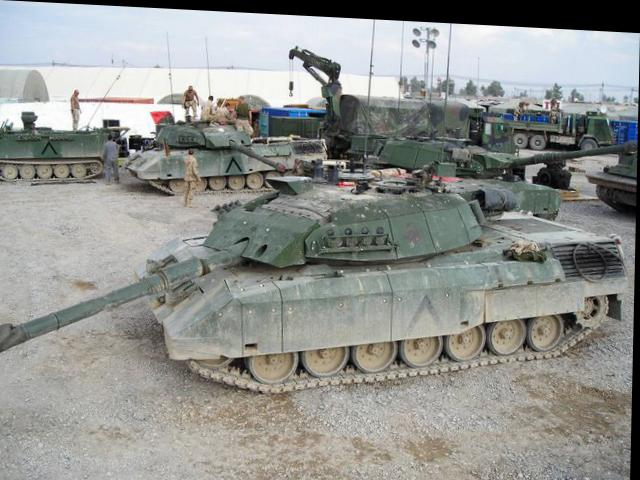tank: (156, 164, 633, 401), (148, 97, 287, 201), (0, 94, 132, 184)
